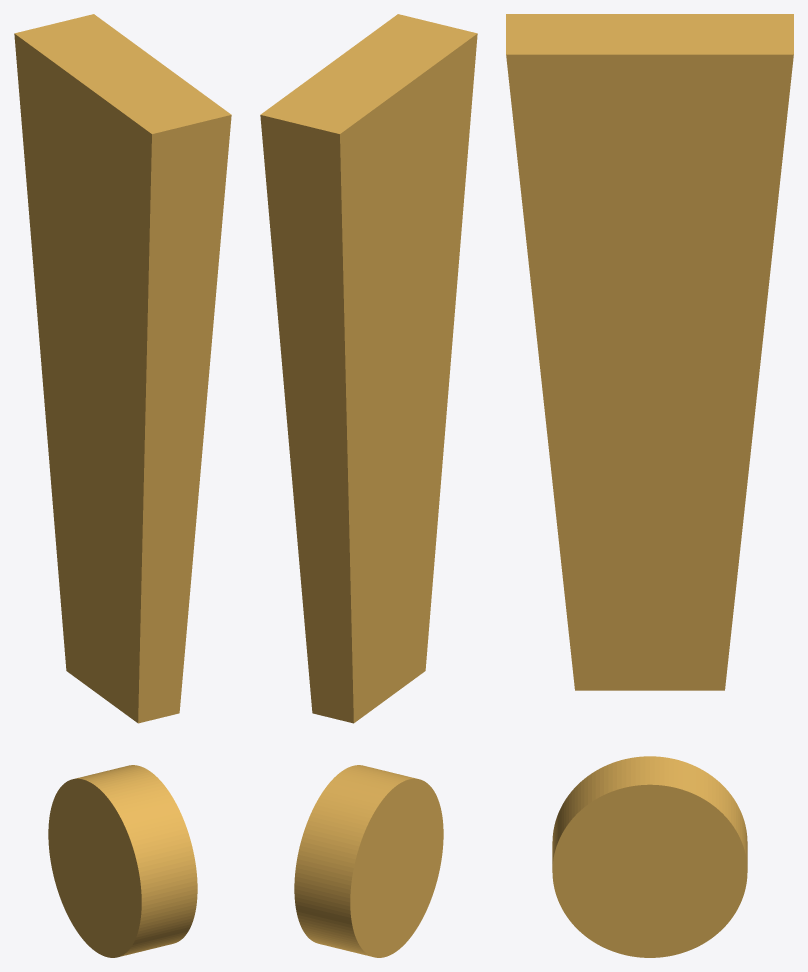
File: Sign.fbx
3 renders of one model, left to right at view 1: azimuth 30°, elevation 25°; view 2: azimuth 150°, elevation 25°; view 3: azimuth 270°, elevation 25°, orthographic. The views are drawn at different scales.
Visible parts, largest first — view 1: Sign; view 2: Sign; view 3: Sign.
Boxes of the visible parts, x1,y1,x2,y2 form: Sign: (14,14,231,957); Sign: (260,14,477,957); Sign: (506,14,793,957).
Size of the model in its own units: 35.59 by 372 by 107.
